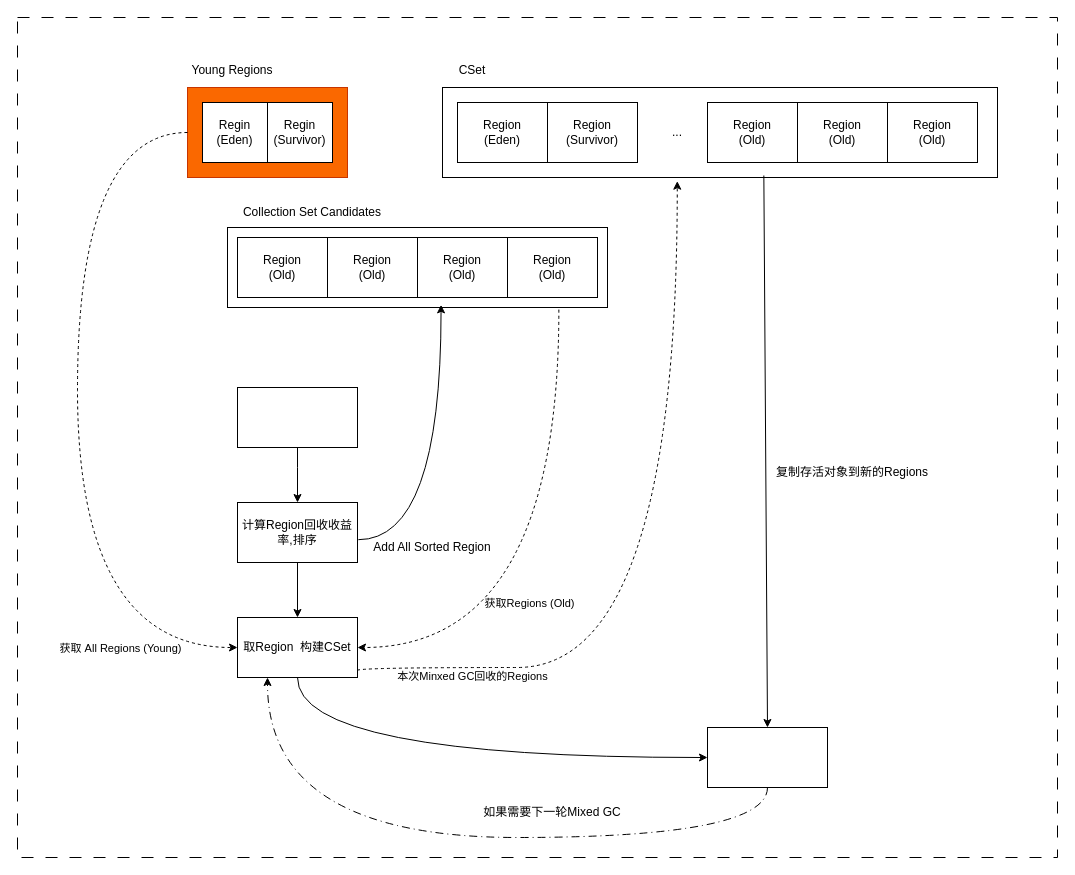
Some shapes in this 1075 by 875 pixel diagram are drawn without their labels. Here are the shapes that lost their labels. From the top down, the centre of each, then its label:
At point (297, 417): "Mixed GC".
At point (767, 757): "GC Root Scan && CleanUp && Evacuation".
